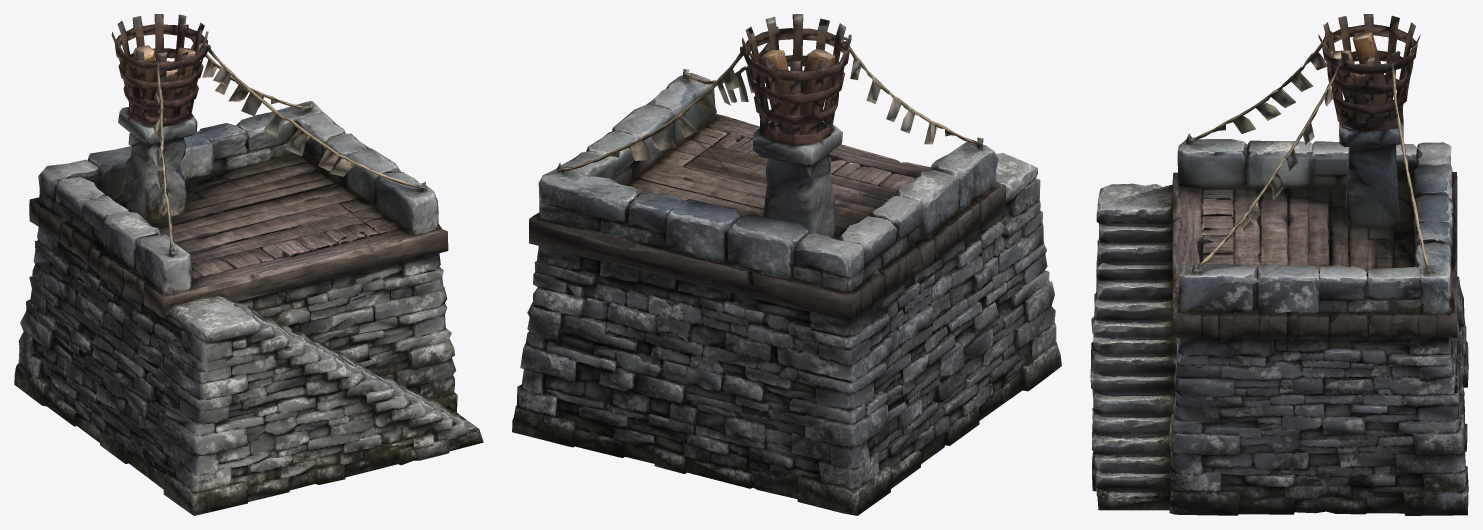
Rendered from BeaconTower.gltf.
3 renders of one model, left to right at view 1: azimuth 30°, elevation 25°; view 2: azimuth 150°, elevation 25°; view 3: azimuth 270°, elevation 25°, orthographic. The views are drawn at different scales.
Parts seen in each view (by area): view 1: lo; view 2: lo; view 3: lo.
Boxes of the visible parts, x1=… form: lo: x1=14, y1=14, x2=483, y2=515; lo: x1=512, y1=14, x2=1061, y2=515; lo: x1=1090, y1=14, x2=1468, y2=515.
Size of the model in its own units: 6.02 by 6.84 by 6.2.
Materials: 1 (1 with a texture image).
